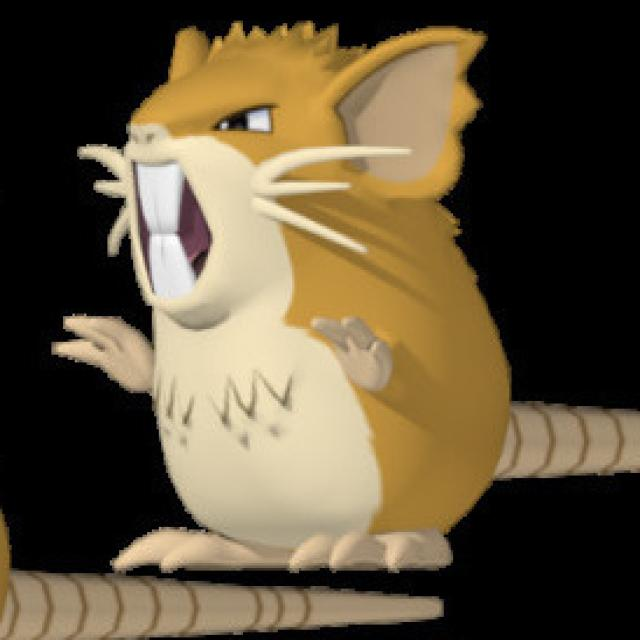Raticate: (94, 24, 532, 578)
